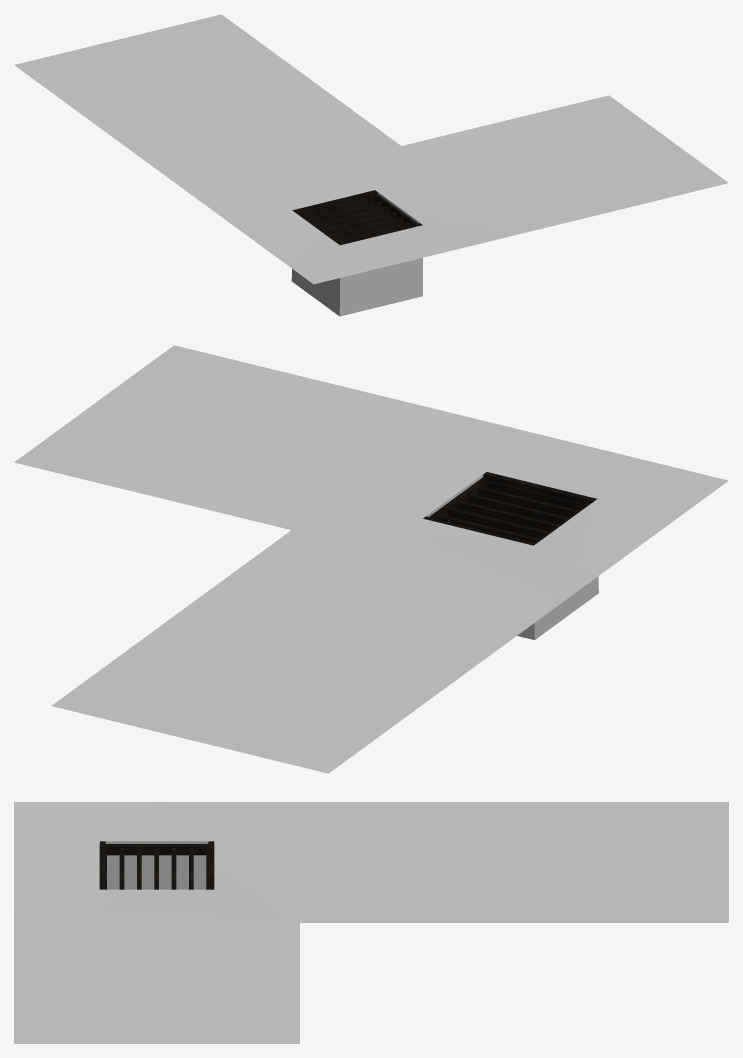
Rendered from killing_room.DAE.
3 views of the same model, one above another, from view 1: azimuth 30°, elevation 25°; view 2: azimuth 150°, elevation 25°; view 3: azimuth 270°, elevation 25° (orthographic). The views are drawn at different scales.
Parts seen in each view (by area): view 1: Plane001, Object001; view 2: Plane001, Object001; view 3: Plane001, Object001.
Boxes of the visible parts, box(x1,y1,x2,y2) form: Plane001: box(14, 14, 728, 316); Object001: box(292, 190, 422, 245); Plane001: box(14, 345, 728, 773); Object001: box(423, 472, 596, 545); Plane001: box(14, 802, 728, 1043); Object001: box(99, 841, 214, 889).
Size of the model in its own units: 8 by 10 by 1.35.
